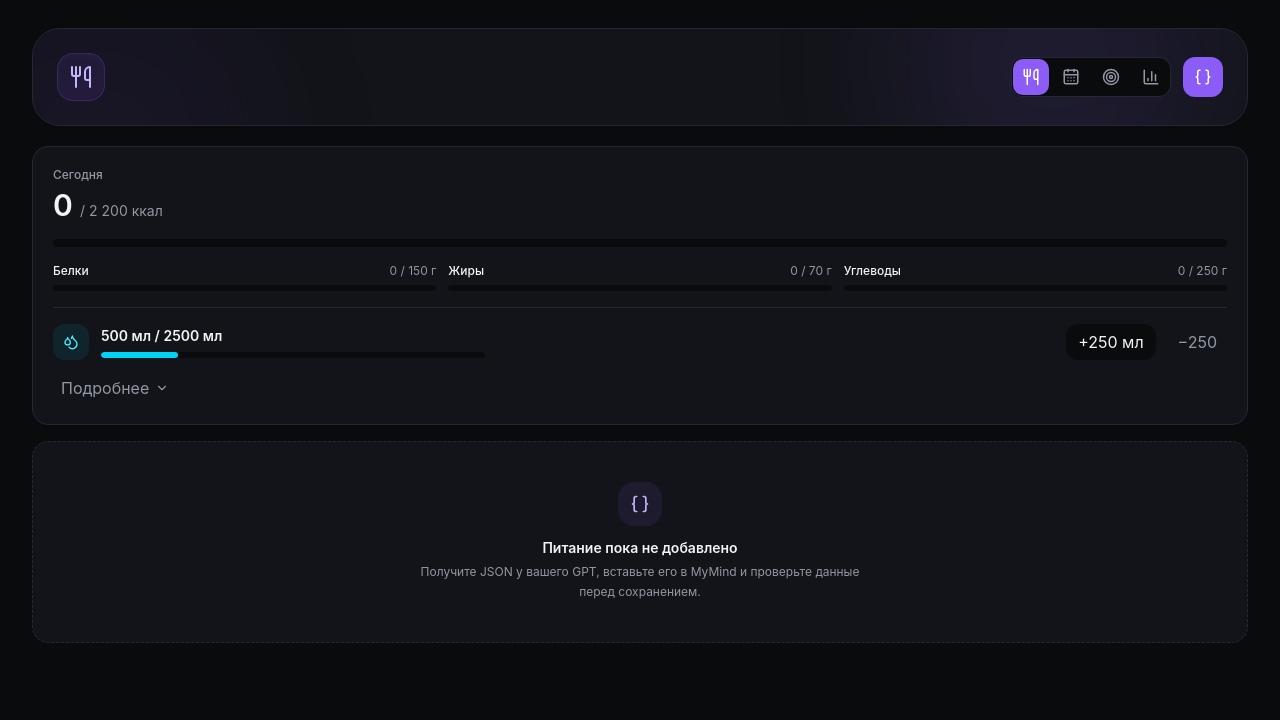
Test case: NutritionPage JSON-only flow › keeps today fixed and date navigation inside diary
This screenshot has width=1280, height=720.
Click the button named "Дневник".
click(1071, 77)  # box x1=1053 y1=59 x2=1089 y2=95
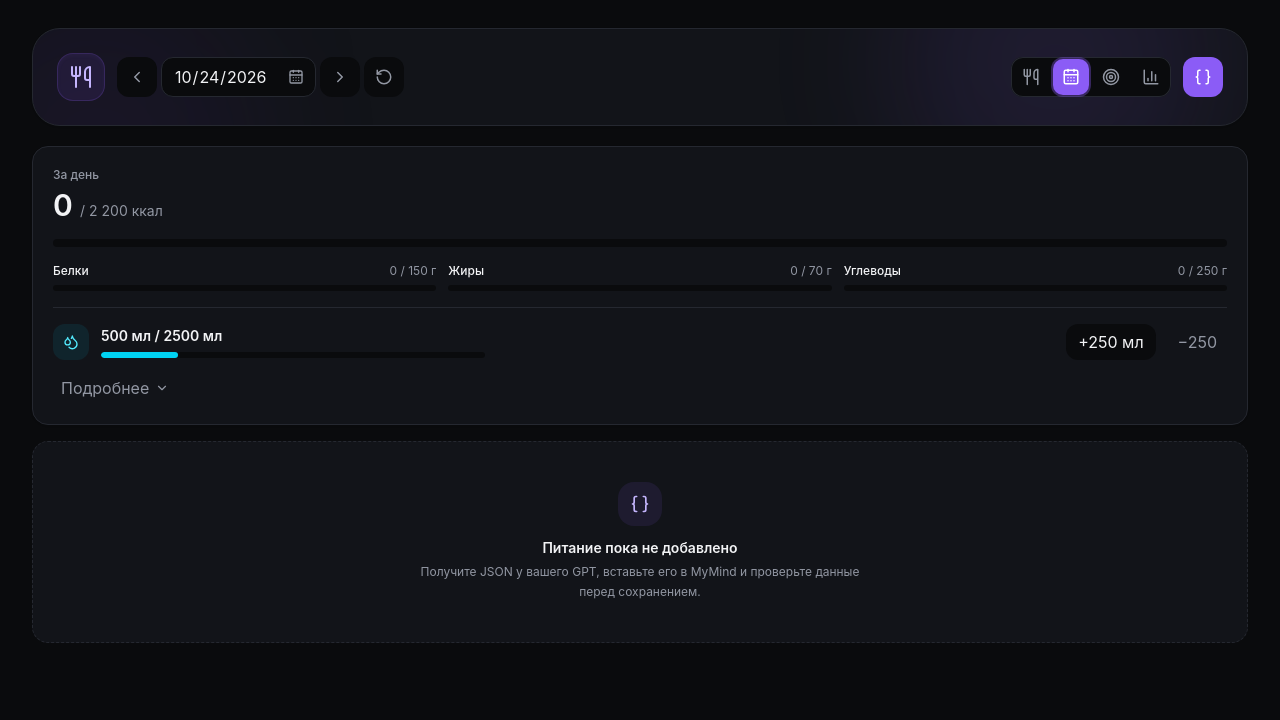
Result: the date field named "Дата дневника питания" is shown at x1=161 y1=57 x2=316 y2=97
